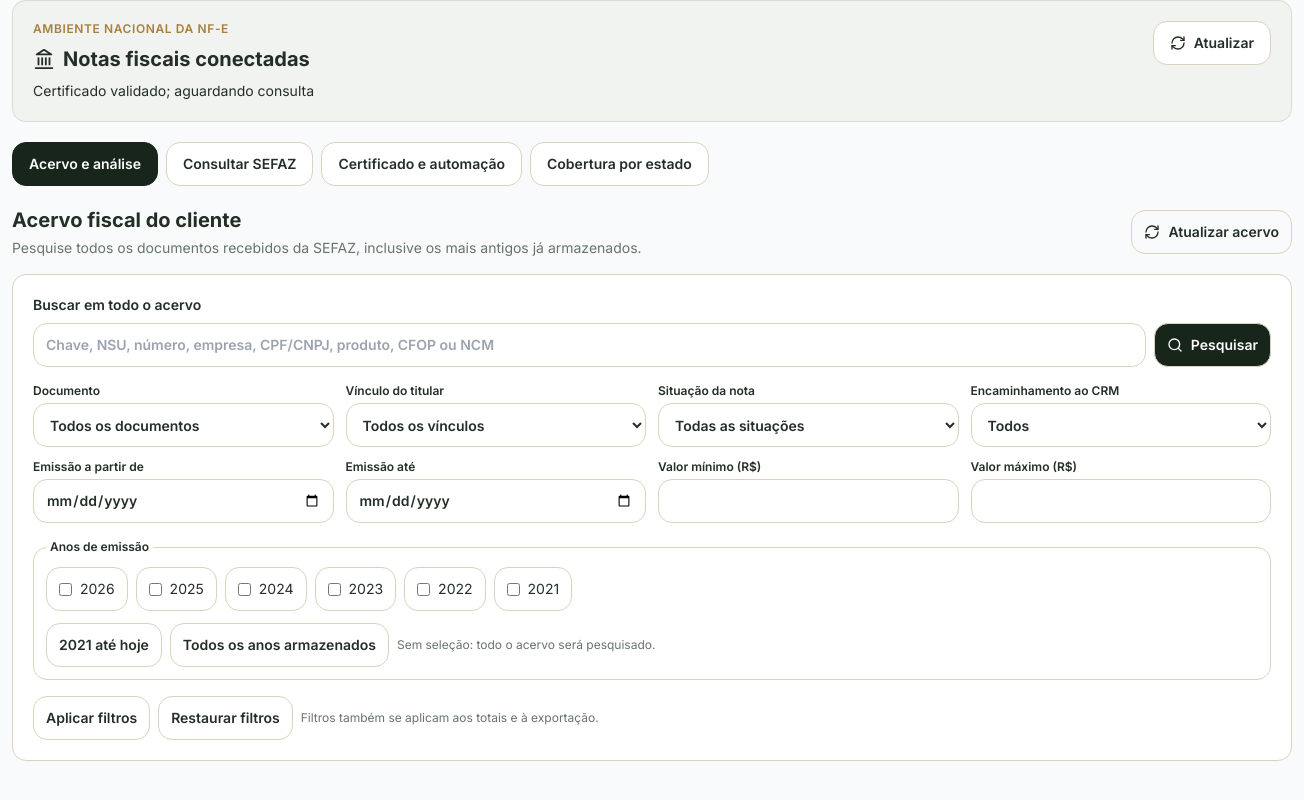
Test: Documentos fiscais e uso pela equipe › uma sessão da equipe revogada remove imediatamente dados fiscais da tela
Click the button "Atualizar" at x=1212, y=43, box [1153, 21, 1271, 65]
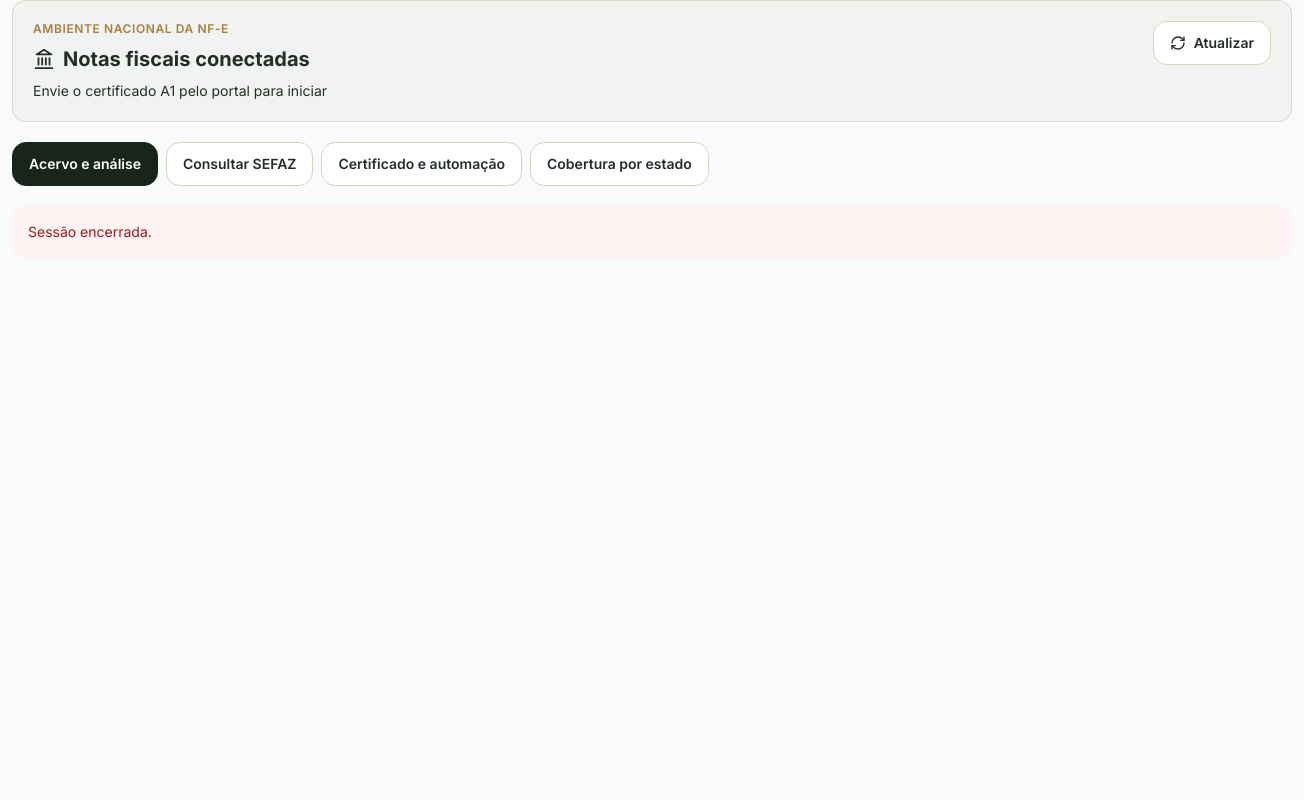
Expected: the message "Sessão encerrada." is shown, [12, 206, 1292, 258]
